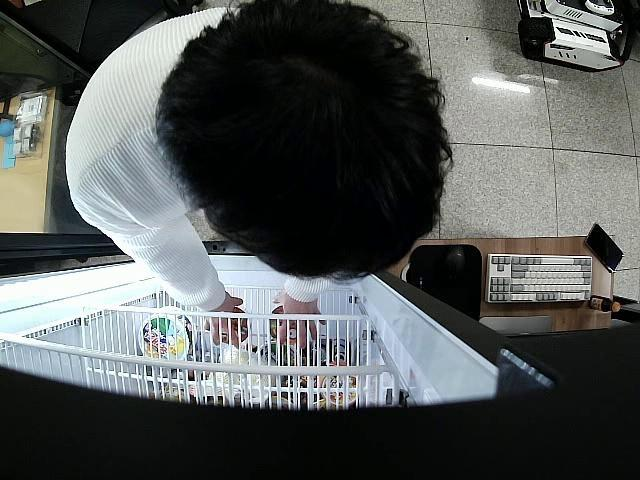06_nuguri_S: (218, 306, 250, 346), (270, 306, 298, 349)
